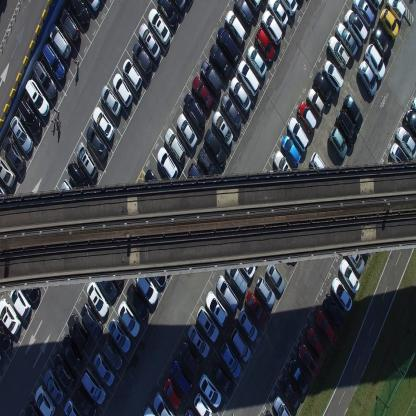car: (32, 59, 58, 100), (41, 42, 66, 83), (24, 78, 50, 117), (81, 364, 106, 404), (17, 96, 42, 136), (9, 114, 34, 154), (344, 7, 368, 48), (215, 25, 240, 64), (137, 22, 161, 62), (203, 127, 226, 168), (182, 92, 206, 131), (147, 7, 171, 46), (315, 308, 338, 348), (2, 136, 26, 174), (117, 299, 140, 338), (86, 279, 109, 318), (134, 268, 158, 305), (47, 22, 71, 59), (288, 356, 310, 396), (76, 140, 98, 180), (245, 289, 268, 327), (323, 292, 346, 330), (126, 282, 148, 321), (205, 290, 228, 327), (208, 43, 231, 80), (297, 342, 320, 379), (80, 302, 103, 339), (52, 353, 75, 390), (156, 145, 178, 183), (144, 167, 166, 205), (196, 304, 218, 342), (176, 112, 198, 150), (200, 59, 222, 97), (364, 42, 386, 80), (67, 312, 89, 350), (43, 367, 65, 405), (186, 323, 209, 359), (237, 60, 260, 96), (224, 8, 247, 44), (190, 76, 214, 110), (66, 160, 90, 194), (187, 162, 209, 199), (164, 127, 186, 164), (216, 274, 238, 311), (170, 359, 192, 396), (220, 93, 242, 130), (229, 75, 251, 112), (279, 374, 301, 411), (86, 124, 108, 161), (198, 373, 221, 408), (108, 318, 131, 353), (260, 9, 282, 45), (310, 150, 332, 186), (287, 116, 309, 152), (328, 34, 350, 70), (336, 22, 358, 58), (92, 106, 114, 142), (58, 8, 80, 44), (224, 260, 247, 294), (212, 109, 233, 146), (339, 257, 360, 294), (0, 297, 21, 334), (274, 149, 296, 184), (19, 269, 41, 304), (255, 26, 275, 64), (357, 59, 377, 97), (336, 108, 356, 146), (197, 146, 218, 182), (94, 352, 115, 388), (61, 334, 82, 370), (246, 44, 268, 78), (322, 58, 344, 92), (344, 242, 366, 276), (100, 84, 122, 118), (231, 326, 251, 363), (313, 70, 333, 107), (112, 71, 132, 108), (212, 364, 235, 396), (235, 244, 256, 279), (390, 142, 412, 175), (95, 268, 117, 301), (332, 276, 352, 312), (59, 178, 79, 214), (280, 133, 301, 167), (122, 58, 143, 92), (131, 42, 152, 76), (10, 286, 31, 320), (101, 338, 123, 370), (266, 260, 286, 295), (180, 340, 200, 375), (396, 125, 416, 160), (237, 309, 258, 342), (156, 0, 179, 30), (73, 386, 96, 415), (372, 24, 390, 60), (344, 92, 362, 128), (328, 125, 347, 159), (256, 276, 276, 308), (305, 326, 325, 358), (232, 0, 254, 29), (35, 385, 56, 415), (298, 101, 317, 134), (380, 6, 399, 39), (351, 0, 374, 27), (307, 86, 325, 120), (164, 377, 182, 410), (268, 0, 288, 29), (68, 0, 90, 26), (147, 258, 166, 288), (153, 390, 175, 415), (0, 154, 16, 187), (386, 0, 406, 25), (0, 320, 14, 351), (272, 394, 292, 415), (194, 392, 212, 415), (404, 109, 416, 142), (63, 397, 83, 415), (280, 0, 298, 18), (172, 0, 188, 15), (84, 0, 101, 14), (24, 401, 40, 415), (247, 0, 263, 12), (368, 0, 383, 12), (142, 404, 155, 415), (410, 94, 416, 112), (184, 407, 196, 415), (263, 408, 273, 416)
